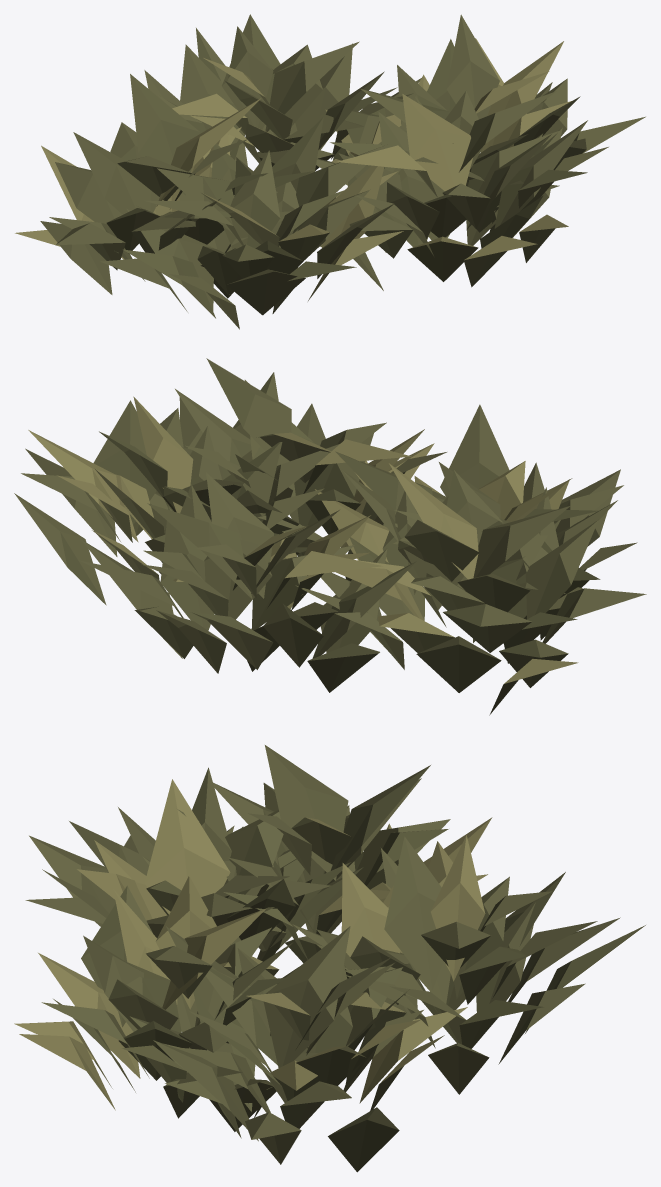
Rendered from scrub.glb.
3 views of the same model, one above another, from view 1: azimuth 30°, elevation 25°; view 2: azimuth 150°, elevation 25°; view 3: azimuth 270°, elevation 25° (orthographic). The views are drawn at different scales.
Parts seen in each view (by area): view 1: scrub; view 2: scrub; view 3: scrub.
Boxes of the visible parts, left/top/right/bottom form: scrub: left=15, top=14, right=645, bottom=329; scrub: left=14, top=358, right=646, bottom=715; scrub: left=14, top=745, right=645, bottom=1172.
Bounding box in the file's own units: 0.7018 × 0.2131 × 0.5444.
